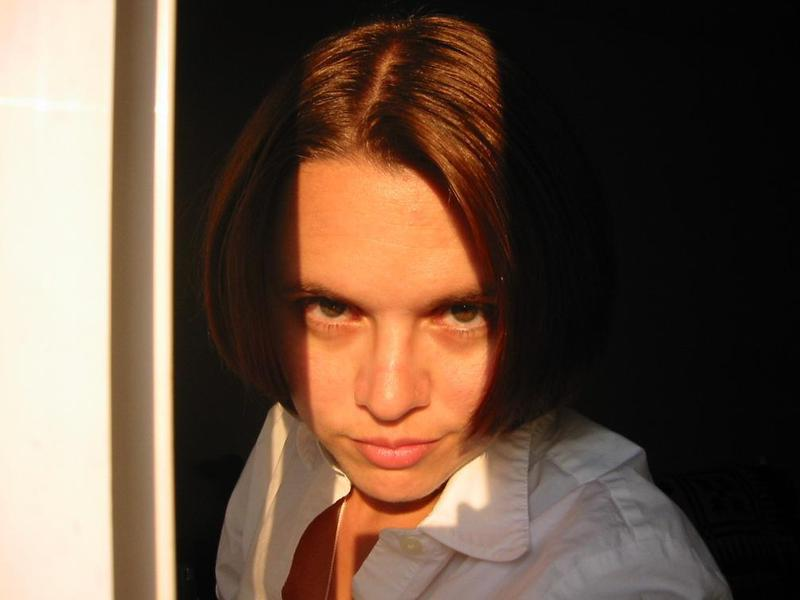person: (209, 12, 736, 600)
